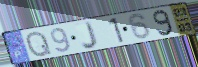1: (108, 17, 126, 45)
6: (127, 12, 154, 41)
9: (49, 27, 72, 54), (153, 9, 175, 37)
J: (81, 20, 100, 50)
Q: (25, 30, 54, 58)
